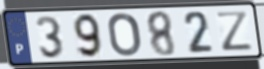2: (183, 10, 215, 54)
3: (35, 15, 66, 60)
8: (145, 9, 178, 57)
9: (70, 12, 104, 60)
O: (106, 11, 143, 58)
Z: (214, 10, 255, 52)
